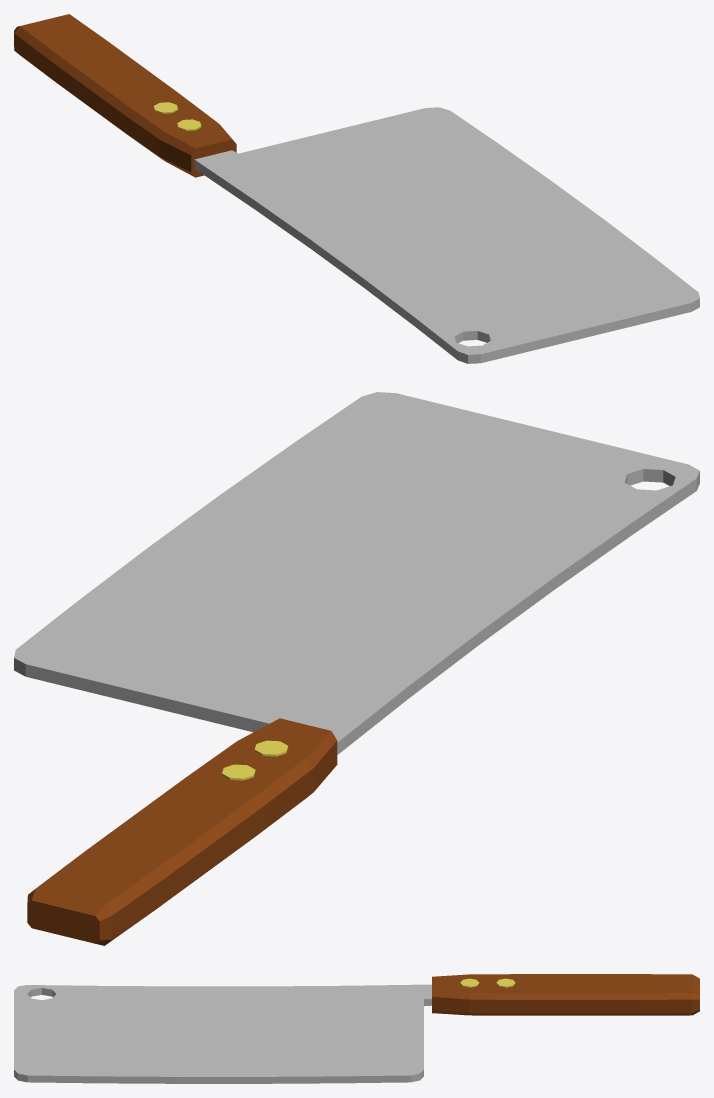
File: Cuchillo_Carnicero.fbx
3 views of the same model, one above another, from view 1: azimuth 30°, elevation 25°; view 2: azimuth 150°, elevation 25°; view 3: azimuth 270°, elevation 25° (orthographic). The views are drawn at different scales.
Parts seen in each view (by area): view 1: Cuchillo_Carnicero; view 2: Cuchillo_Carnicero; view 3: Cuchillo_Carnicero.
Boxes of the visible parts, x1=… form: Cuchillo_Carnicero: x1=14, y1=14, x2=699, y2=363; Cuchillo_Carnicero: x1=14, y1=392, x2=699, y2=945; Cuchillo_Carnicero: x1=14, y1=974, x2=699, y2=1083.
Size of the model in its own units: 16.95 by 1.92 by 50.75.
